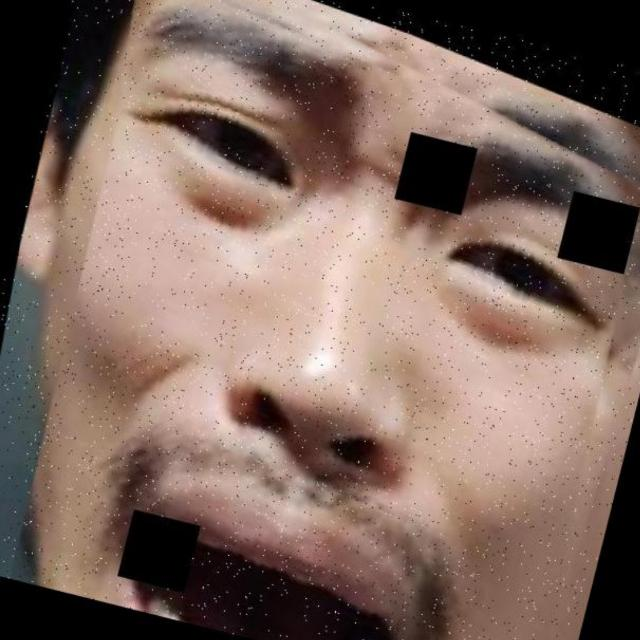Sad: (92, 0, 595, 640)
